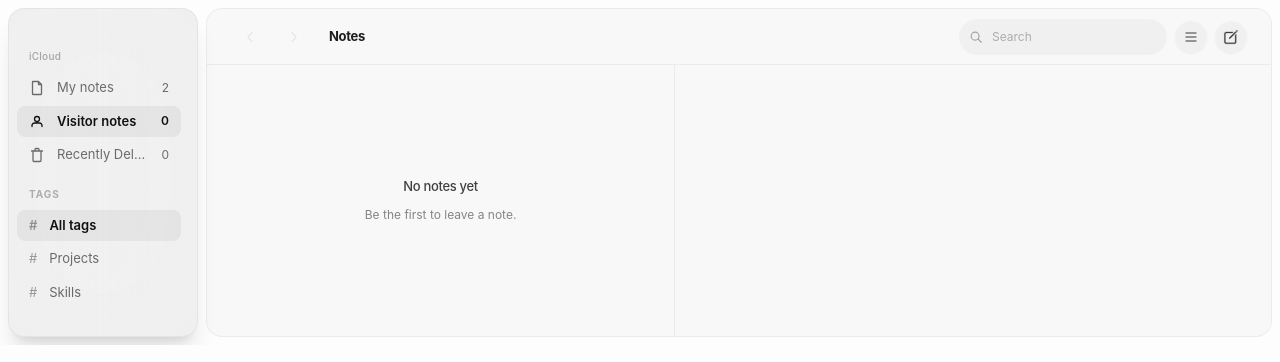
Scenario: NotesApp › shows a filtered empty state when the active tag has no results
Click the button "My notes 2" at (99, 88), box [17,72,181,104]
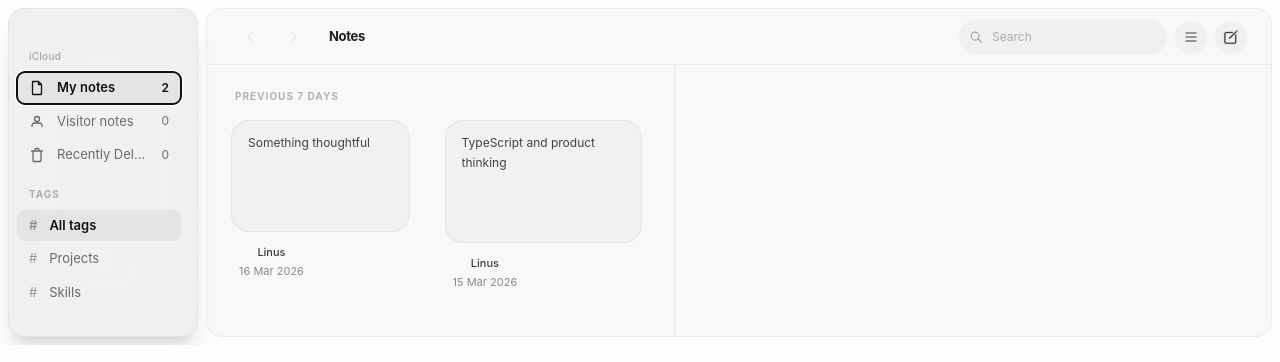
Expected: the element named "Notes gallery" is shown, [207,65,674,336]
Click the button with aria-label "Filter by tag Projects" at (99, 259), box [17,243,181,274]
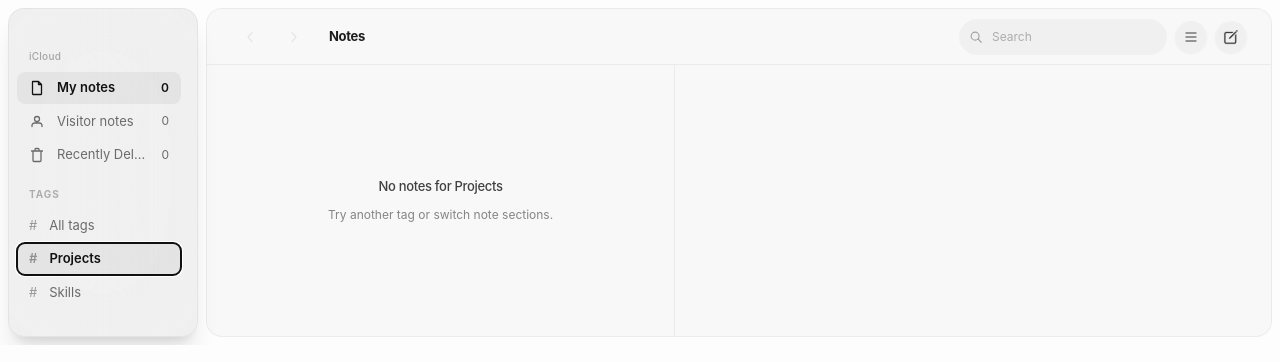
Expected: the heading "No notes for Projects" is shown, [379,178,503,194]
Expected: the text "Try another tag or switch note sections." is shown, [328,204,553,224]
